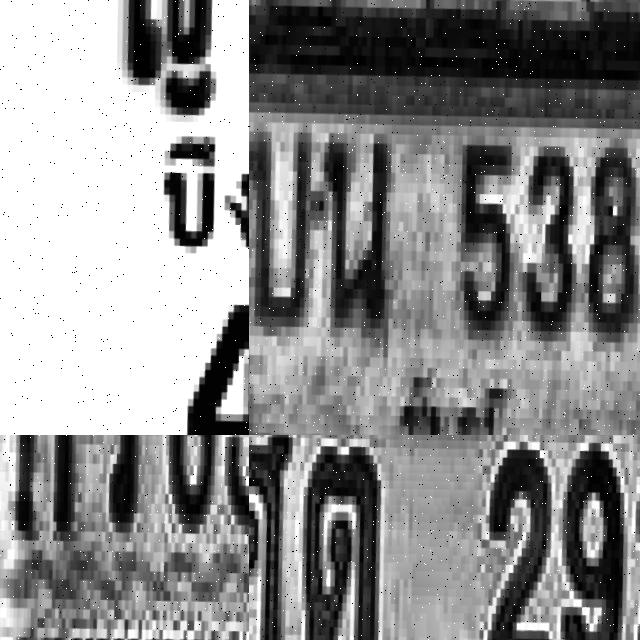license-plate: (249, 38, 640, 435), (0, 0, 249, 435), (249, 435, 640, 640), (0, 435, 249, 640)
